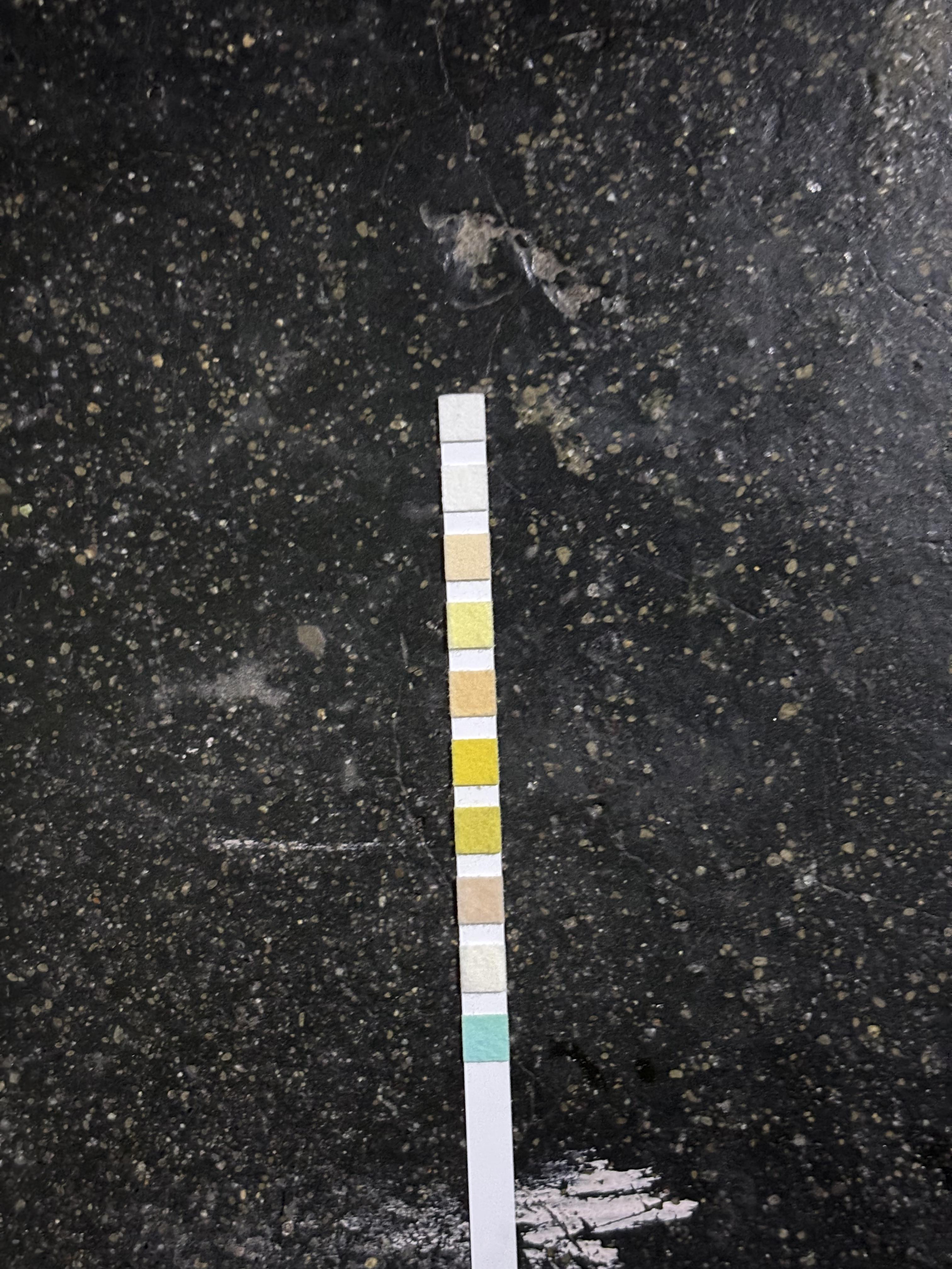Bilirubin: (463, 947, 503, 991)
Blood: (456, 742, 496, 782)
Glucose: (465, 1016, 506, 1060)
Ketone: (460, 879, 502, 920)
Leukocytes: (441, 396, 482, 440)
Nitrite: (444, 468, 486, 509)
Protein: (449, 607, 490, 646)
SpGravity: (457, 809, 499, 853)
Urobilinogen: (448, 537, 488, 578)
pH: (452, 673, 494, 715)
strip: (437, 394, 517, 1231)
